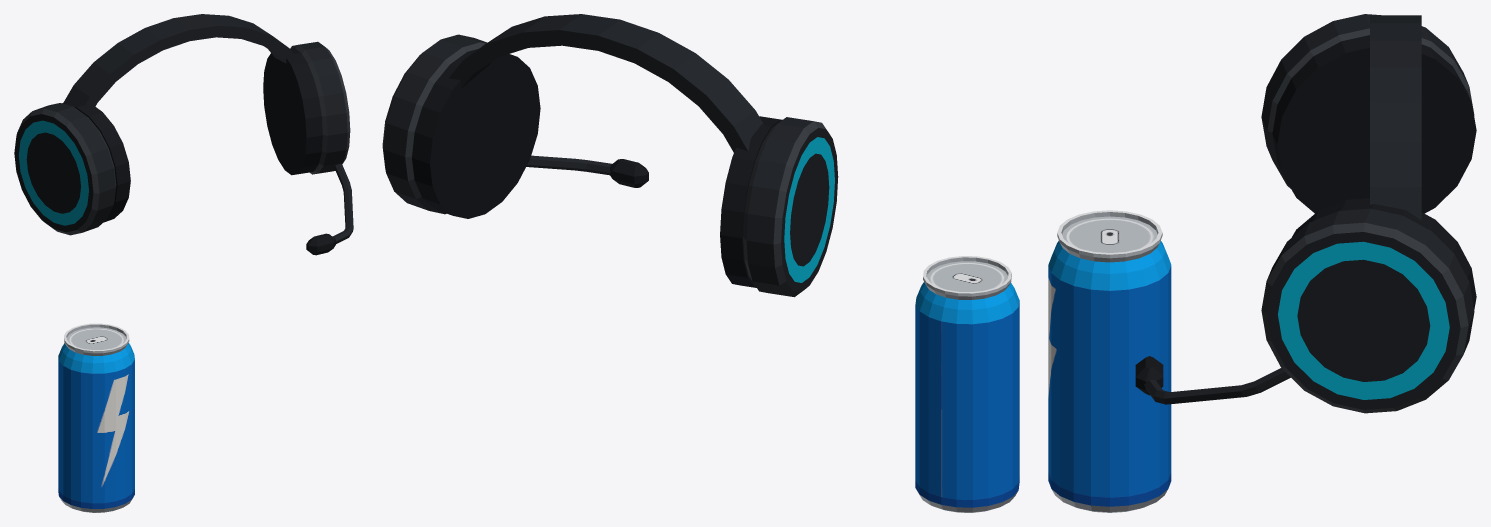
File: GamerDad_Props.fbx
3 renders of one model, left to right at view 1: azimuth 30°, elevation 25°; view 2: azimuth 150°, elevation 25°; view 3: azimuth 270°, elevation 25°, orthographic. The views are drawn at different scales.
Parts seen in each view (by area): view 1: Headset_Geo.001, EnergyCan_Geo.001; view 2: Headset_Geo.001, EnergyCan_Geo.001; view 3: Headset_Geo.001, EnergyCan_Geo.001.
Part boxes in pixels (bbox=[...]): Headset_Geo.001: bbox=[14, 14, 353, 255]; EnergyCan_Geo.001: bbox=[58, 323, 134, 512]; Headset_Geo.001: bbox=[382, 14, 838, 297]; EnergyCan_Geo.001: bbox=[915, 256, 1019, 512]; Headset_Geo.001: bbox=[1135, 14, 1476, 413]; EnergyCan_Geo.001: bbox=[1048, 210, 1171, 512].
Size of the model in its own units: 3.29 by 3.26 by 2.16.
Materials: 1 (1 with a texture image).
